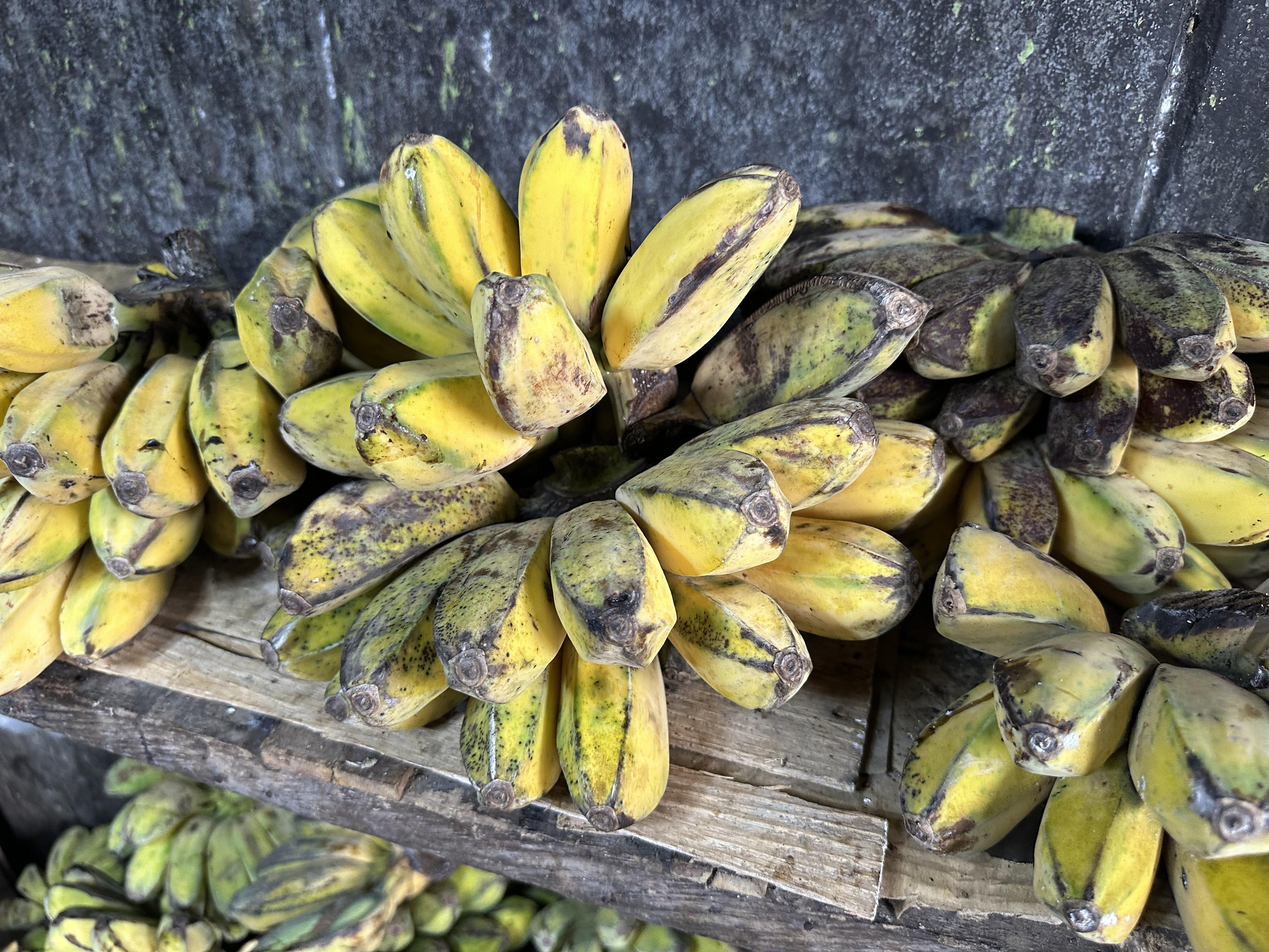underripe: (262, 274, 944, 831), (280, 106, 800, 490), (901, 527, 1269, 951), (0, 247, 342, 693), (759, 202, 1269, 475), (960, 410, 1269, 598)
